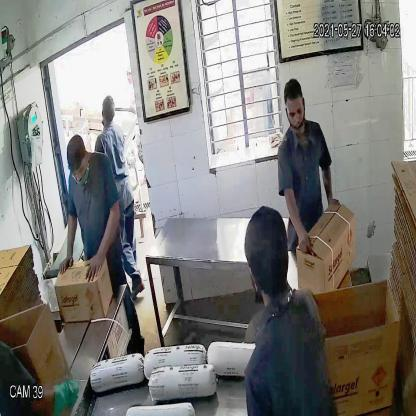no_goggles: (284, 102, 308, 126), (69, 159, 89, 182)
